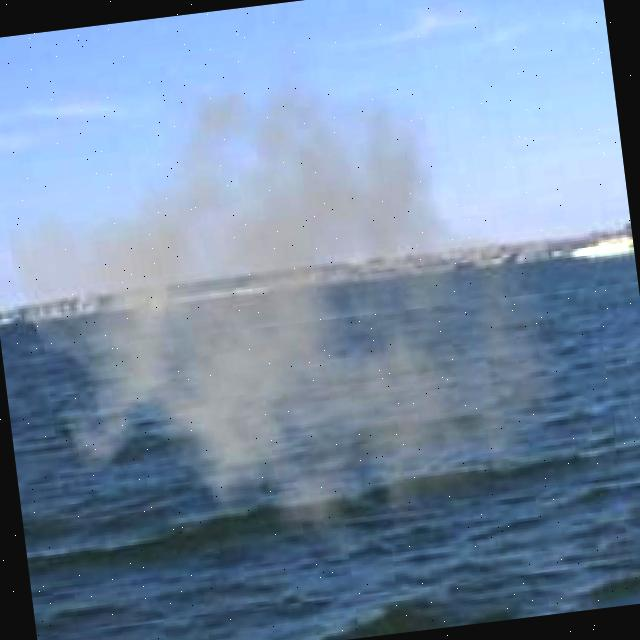smoke: (0, 17, 585, 621)
